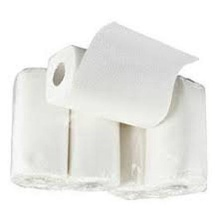tissue: (37, 17, 203, 134), (3, 61, 126, 198), (102, 70, 213, 207)
